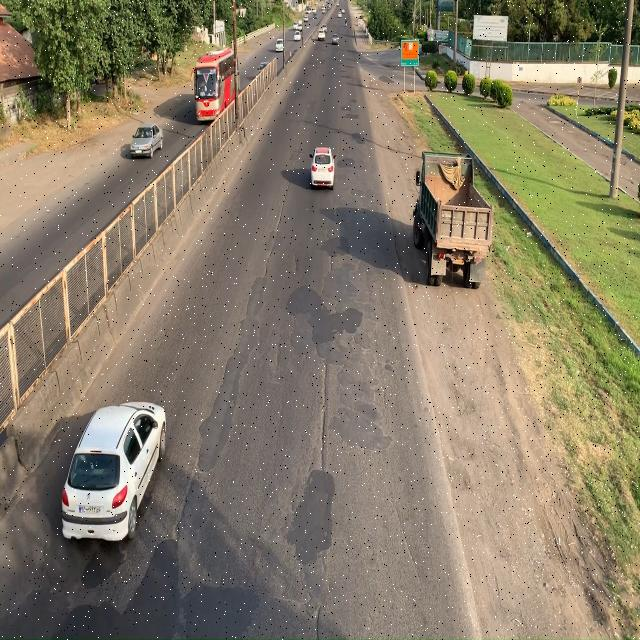Truck: (414, 152, 498, 292)
cars: (62, 402, 166, 542), (310, 147, 336, 190), (129, 126, 163, 155)
